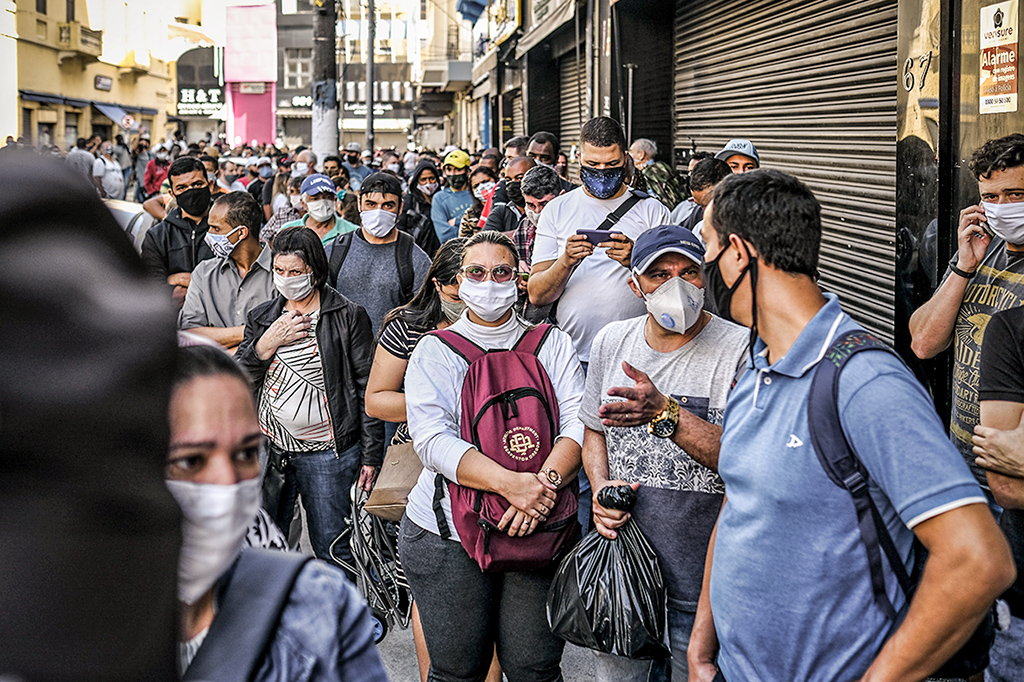with_mask: (130, 363, 263, 610), (627, 223, 708, 330), (451, 229, 521, 318), (974, 140, 1024, 245), (205, 189, 264, 265), (577, 123, 631, 198), (270, 232, 323, 302), (167, 155, 212, 222), (356, 176, 402, 239), (299, 173, 337, 224)
